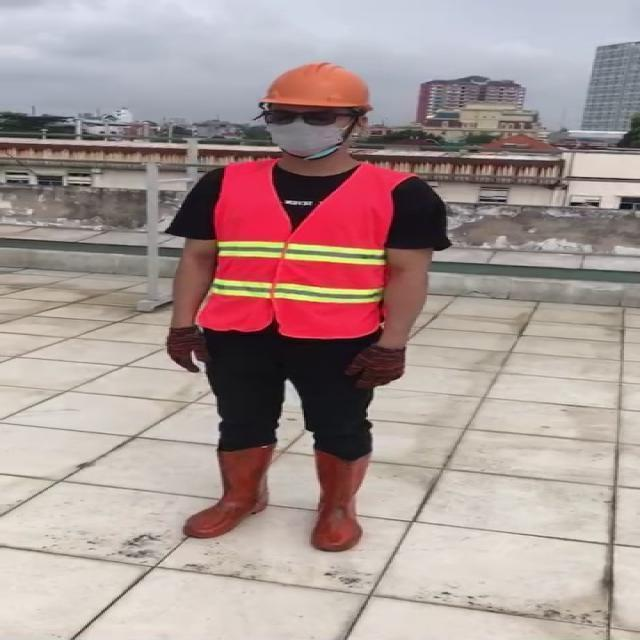gloves: (344, 343, 403, 391), (163, 321, 211, 376)
goggles: (254, 108, 362, 127)
helmet: (252, 56, 379, 112)
safety_vest: (206, 162, 396, 339)
